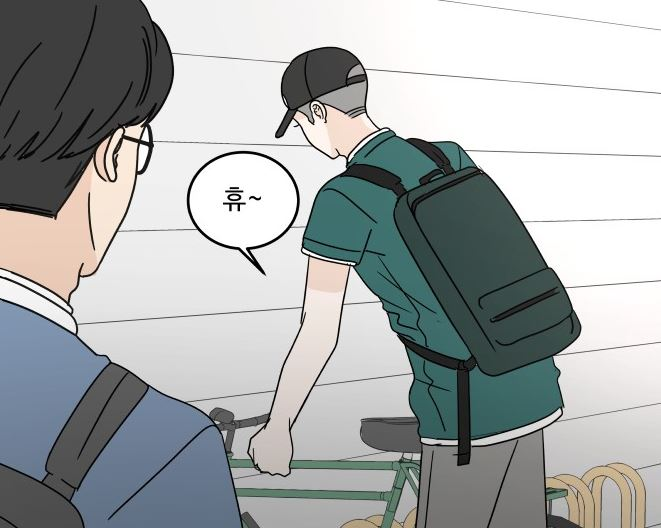hat: (273, 48, 367, 133)
